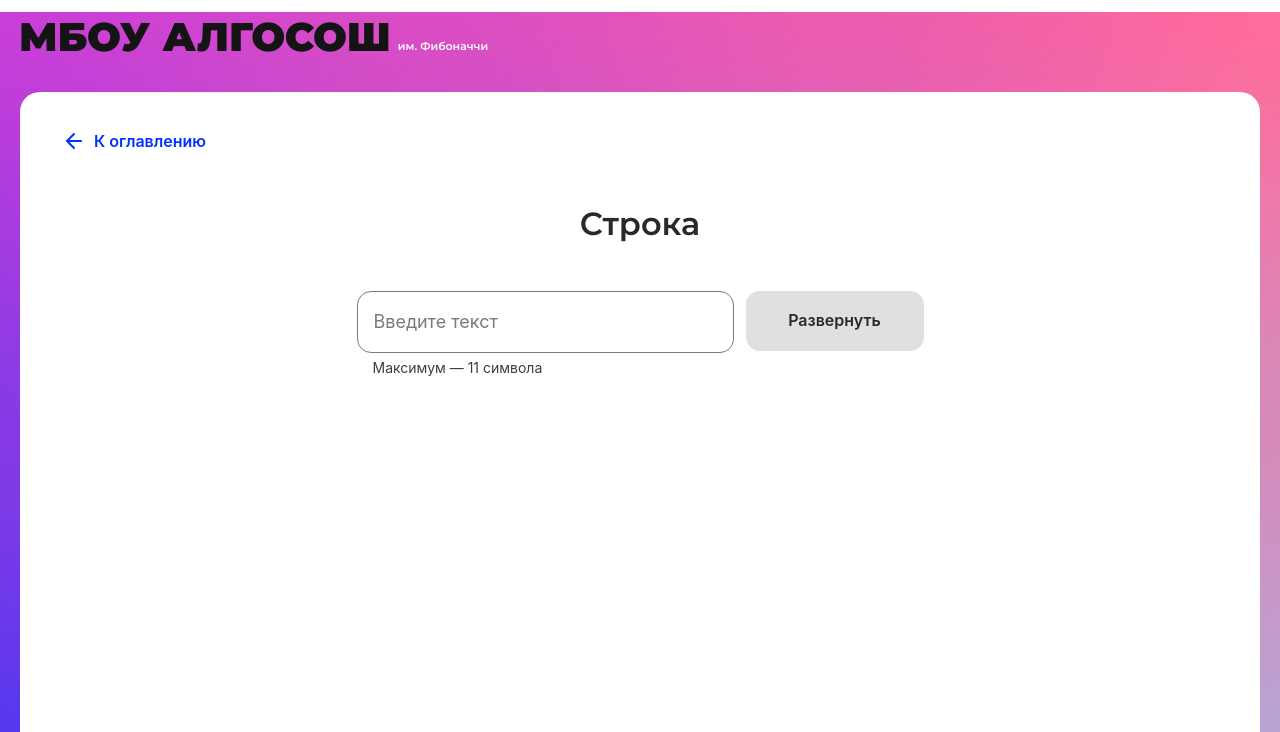
страница Строка › состояние кнопки
Expected: the button "Развернуть" is disabled, x1=746 y1=291 x2=924 y2=351
Type "q" into the field with placeholder "Введите текст" at coordinates (546, 322), box x1=357 y1=291 x2=734 y2=353
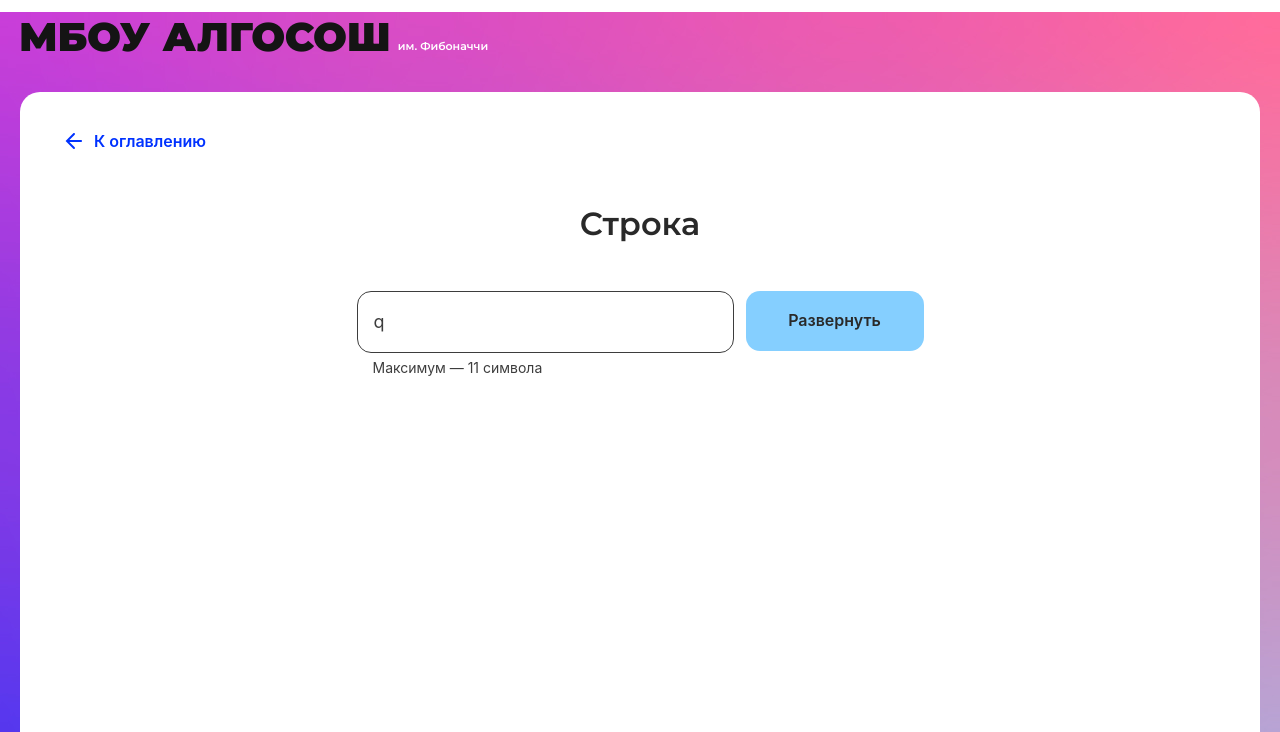
Expected: the text "Развернуть" is enabled
Clear the field at coordinates (546, 322), box x1=357 y1=291 x2=734 y2=353
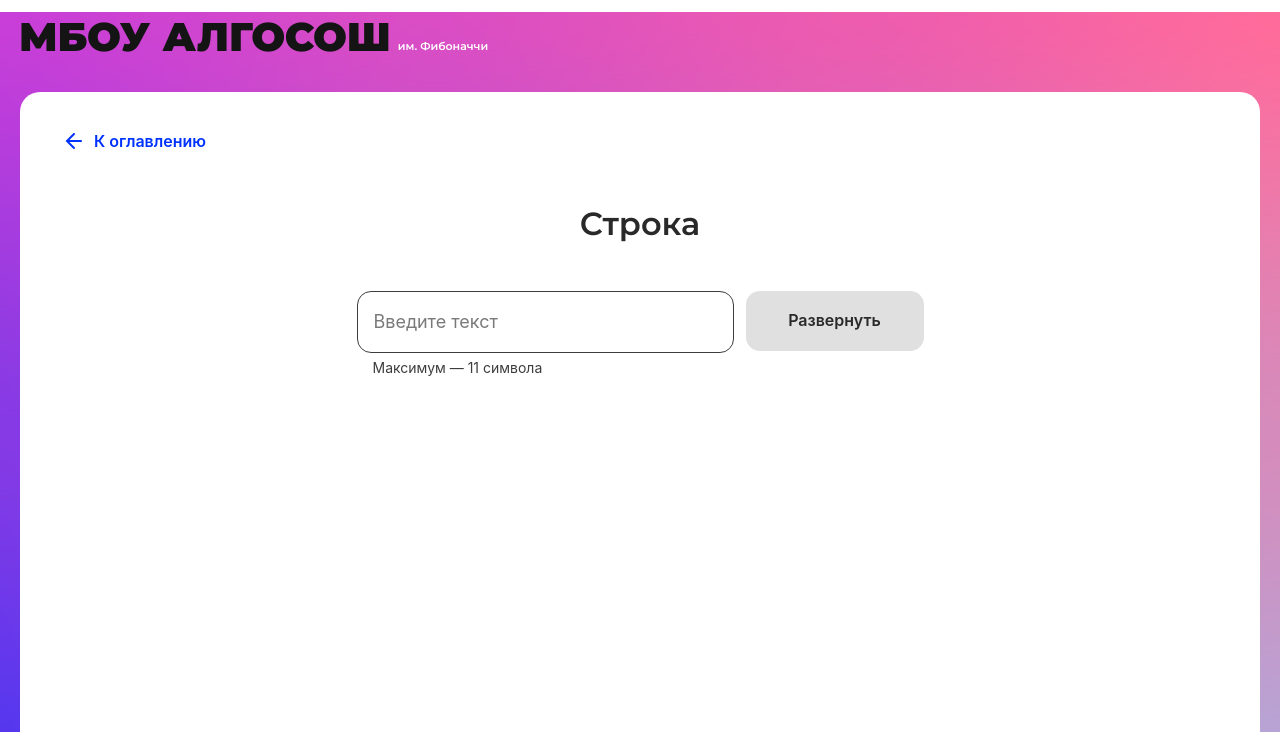
Expected: the button "Развернуть" is disabled, x1=746 y1=291 x2=924 y2=351
